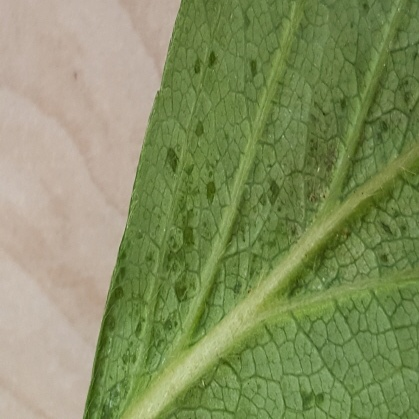Angular_LS: (82, 0, 418, 419)
